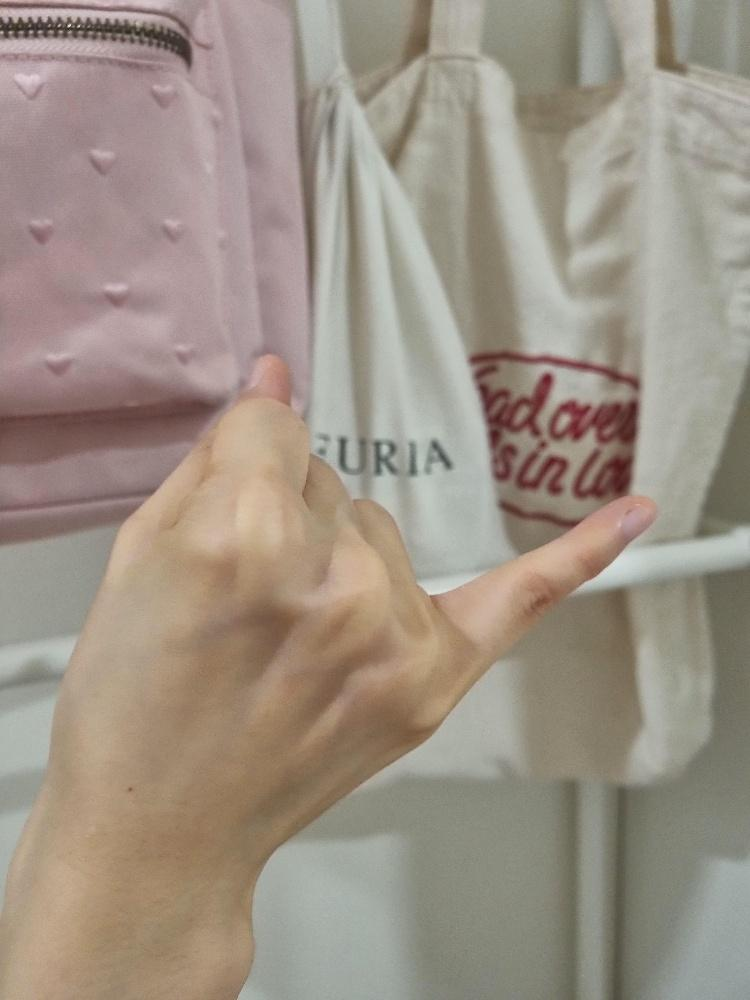j: (52, 350, 661, 875)
